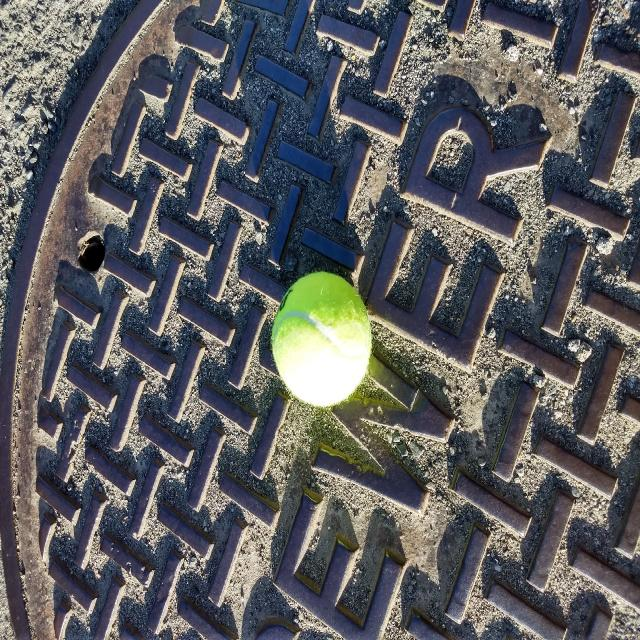Tennis-Ball: (270, 263, 382, 419)
